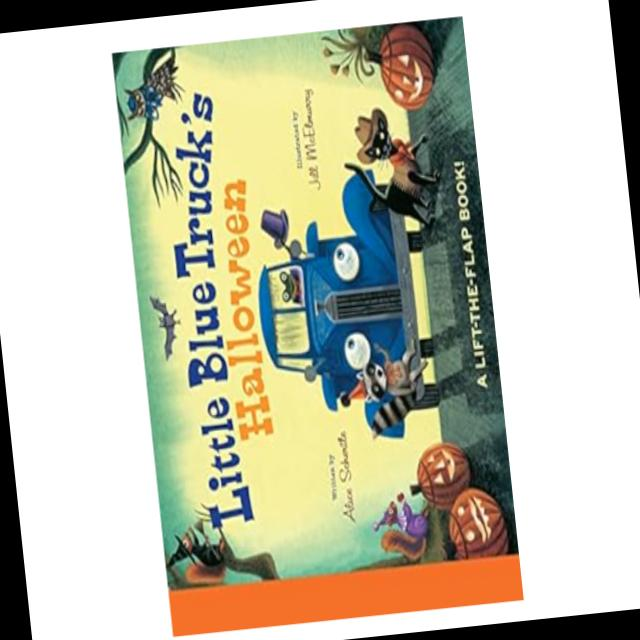titles-or-authors: (147, 80, 290, 534), (330, 422, 360, 528)
